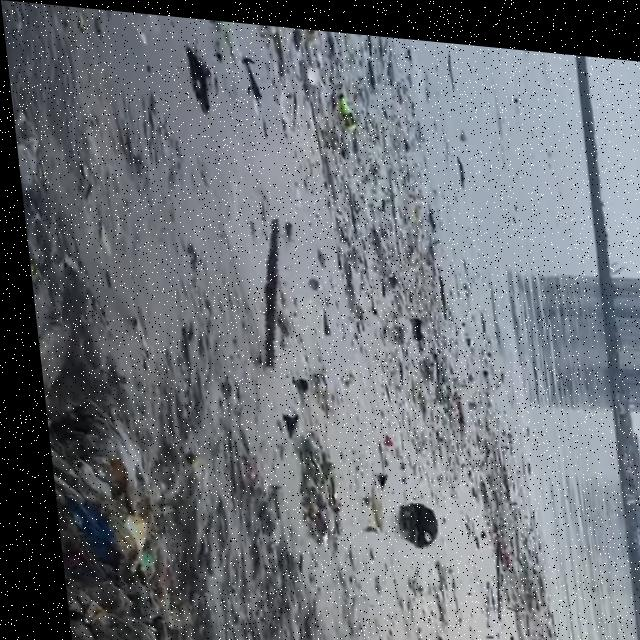litter: (251, 215, 279, 372), (377, 493, 432, 553)
